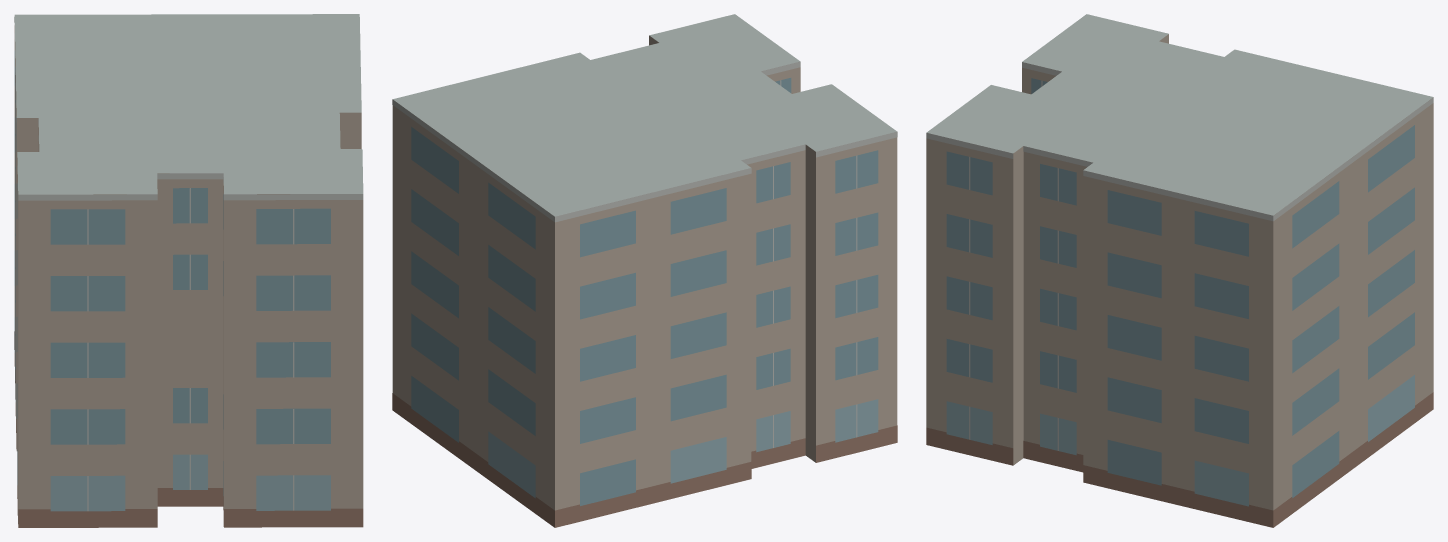
The model's file is survey-upis-32622294.glb.
3 views of the same model, side by side, from view 1: azimuth 30°, elevation 25°; view 2: azimuth 150°, elevation 25°; view 3: azimuth 270°, elevation 25° (orthographic). The views are drawn at different scales.
Parts seen in each view (by area): view 1: survey-upis-32622294.tmp; view 2: survey-upis-32622294.tmp; view 3: survey-upis-32622294.tmp.
Boxes of the visible parts, bbox=[...] form: survey-upis-32622294.tmp: bbox=[14, 14, 363, 527]; survey-upis-32622294.tmp: bbox=[392, 14, 897, 527]; survey-upis-32622294.tmp: bbox=[926, 14, 1433, 527].
Size of the model in its own units: 18.57 by 13.4 by 19.74.
